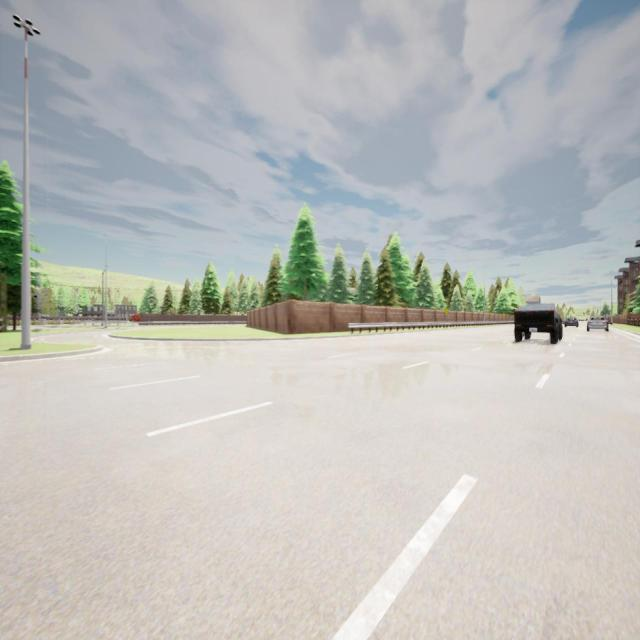Vehicle: (514, 303, 563, 344), (586, 315, 610, 331), (563, 316, 579, 328)
